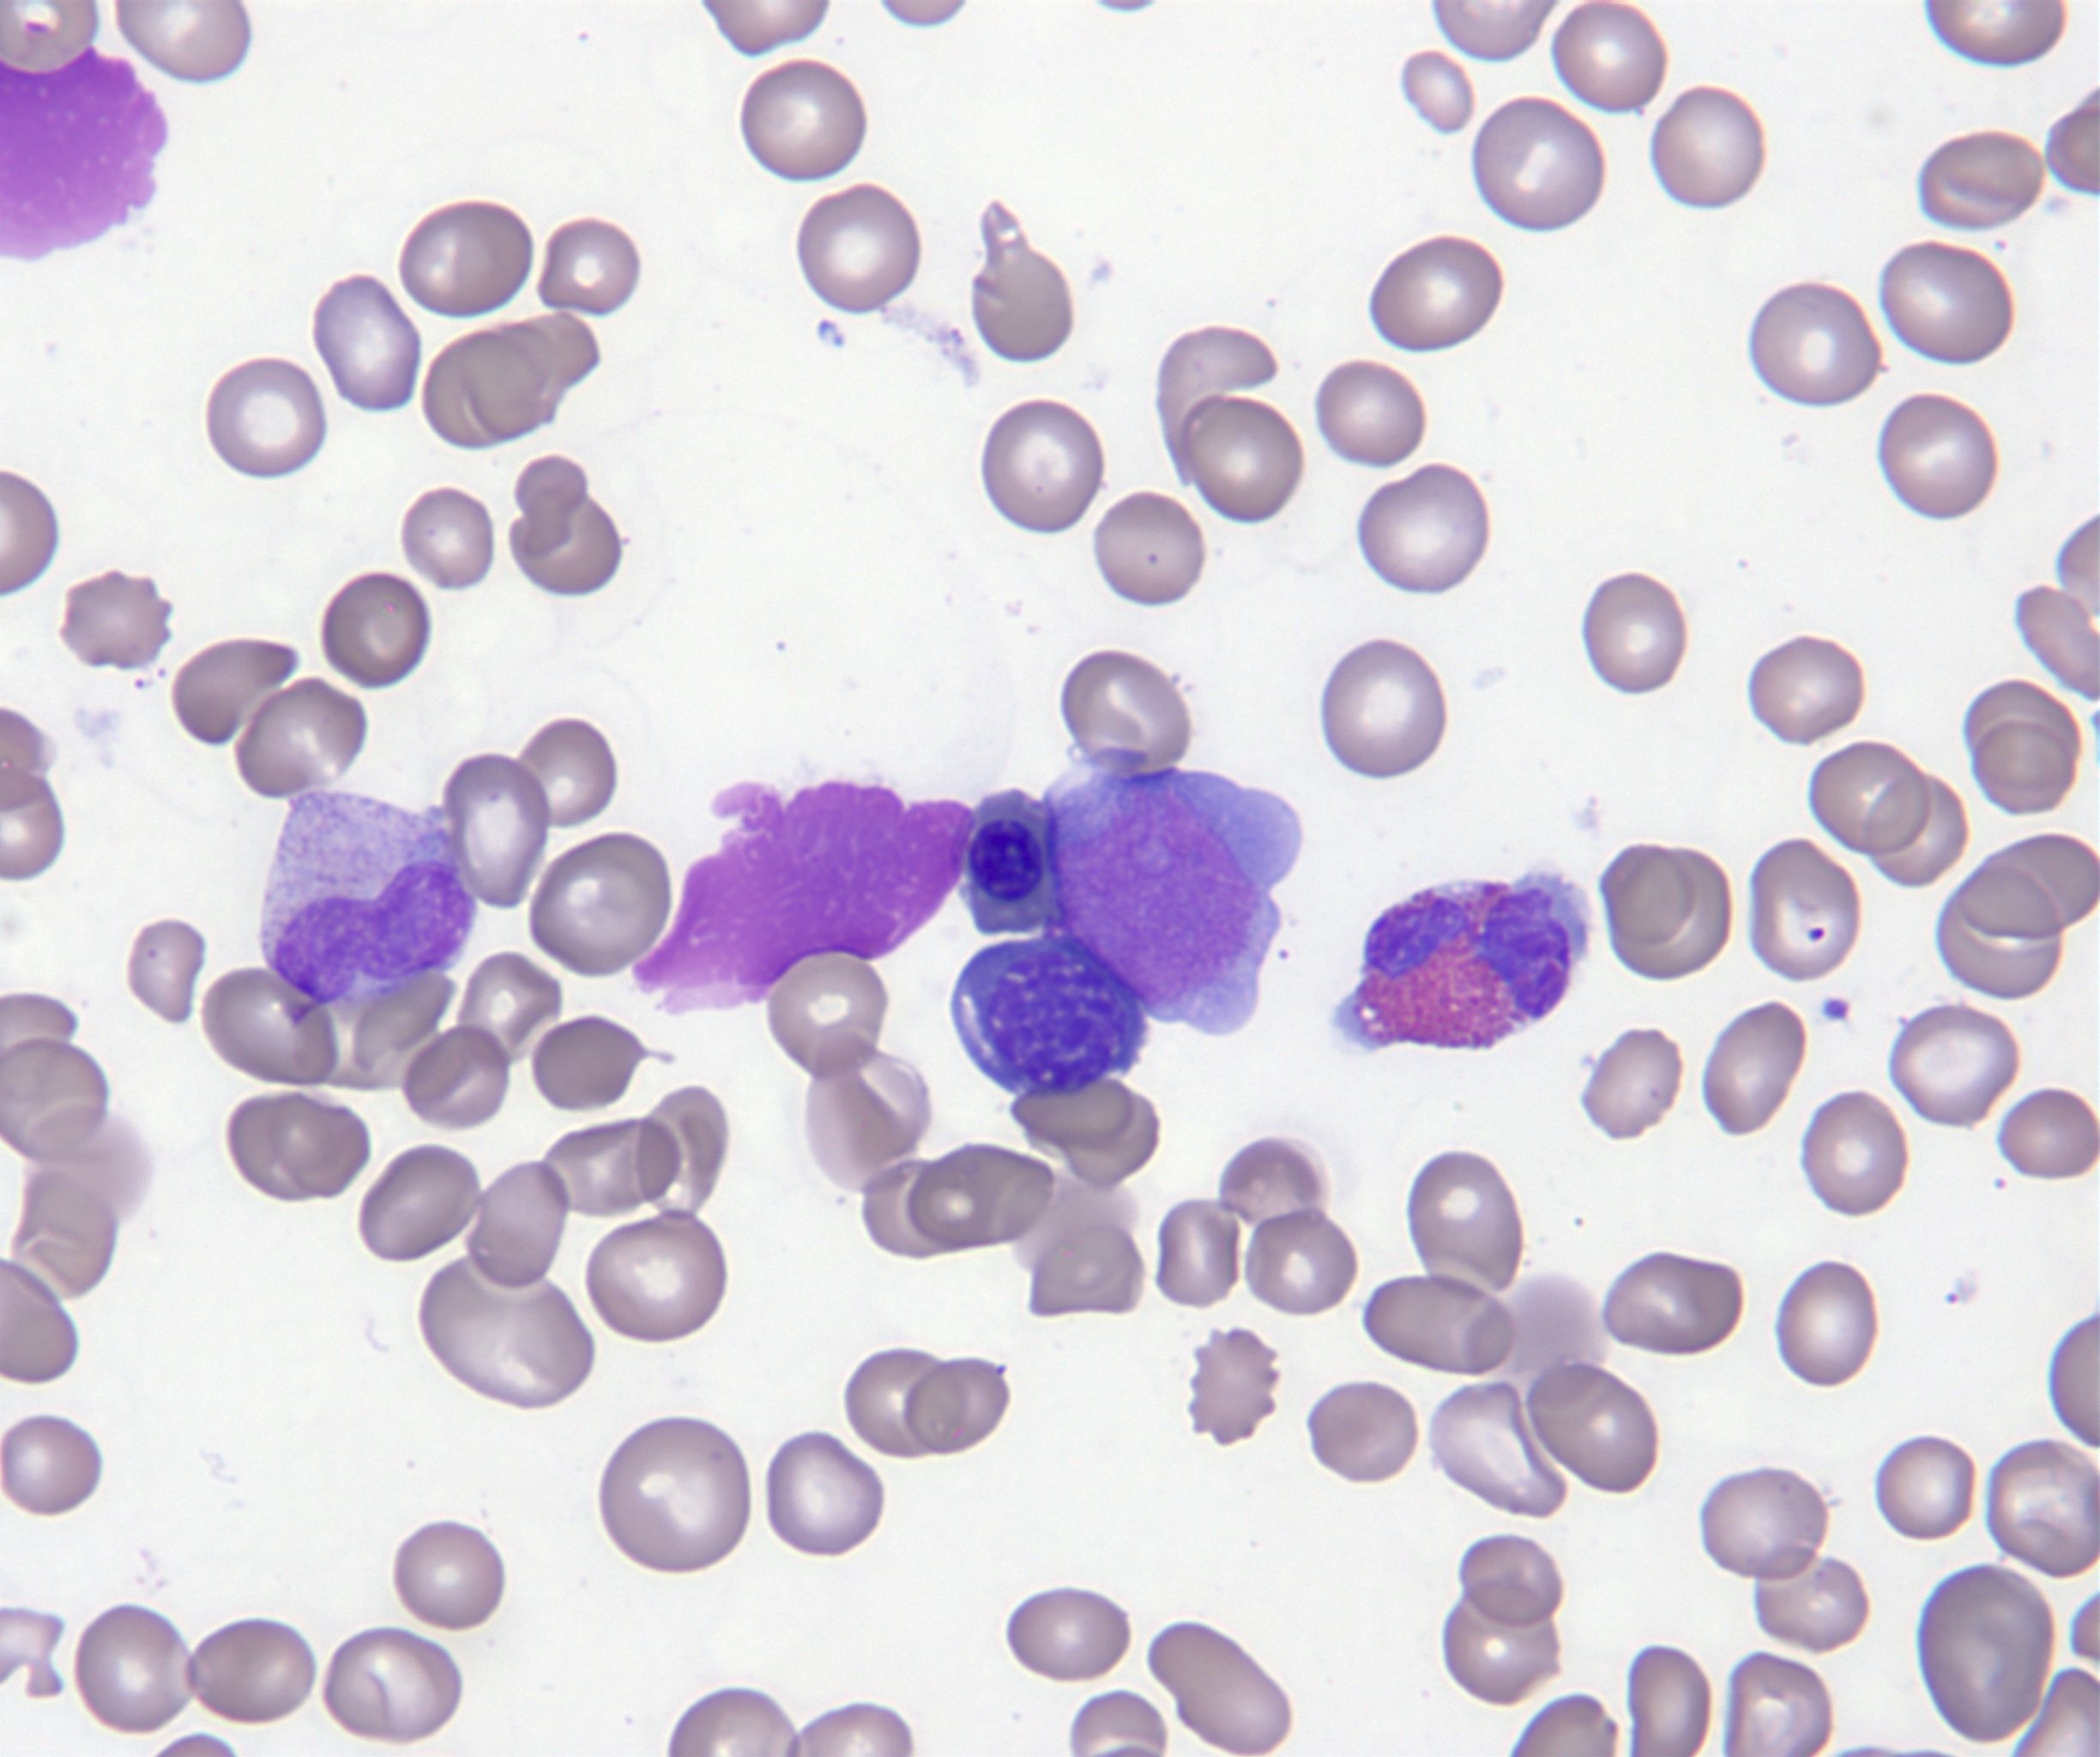2: (1043, 750, 1301, 1038)
23: (949, 940, 1151, 1101)
24: (945, 790, 1064, 933)
4: (258, 789, 480, 1002)
E4: (1336, 869, 1594, 1054)
x: (633, 780, 980, 1019), (0, 24, 169, 263)
